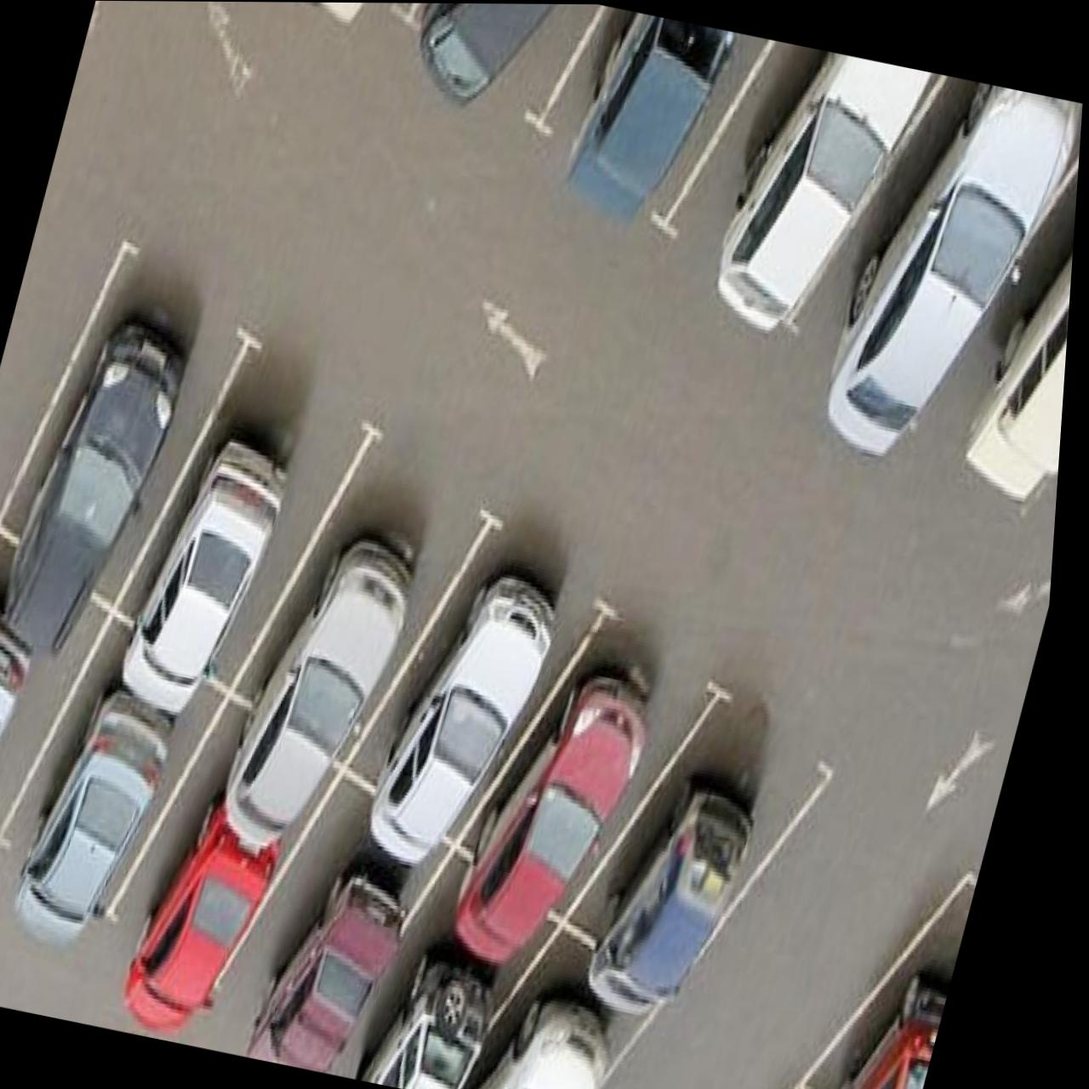cars: (4, 185, 248, 640), (453, 567, 705, 955), (548, 685, 808, 1051), (813, 70, 1078, 428), (231, 414, 471, 808), (116, 313, 348, 681), (667, 35, 919, 345), (93, 709, 324, 1039), (217, 776, 450, 1084), (370, 516, 582, 845), (7, 628, 212, 955), (530, 4, 759, 267), (349, 839, 562, 1089), (952, 125, 1081, 528), (810, 851, 981, 1089), (464, 908, 665, 1089), (0, 535, 89, 870)
